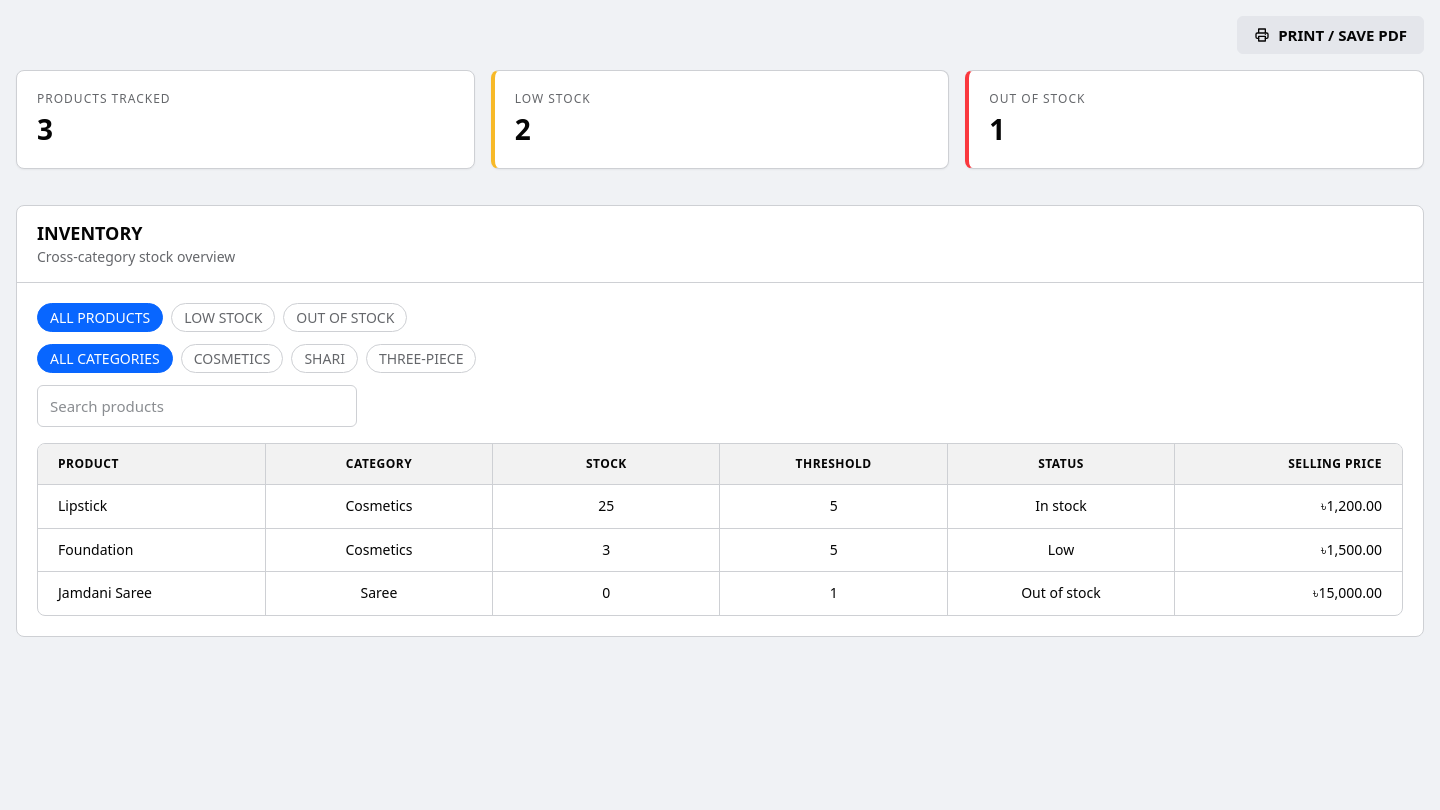
Scenario: StockPage › filters to low-stock when the chip is clicked
Expected: the text "Lipstick" is shown, [58,496,107,515]
Click the button "Low stock" at (223, 317), box [171,303,275,332]
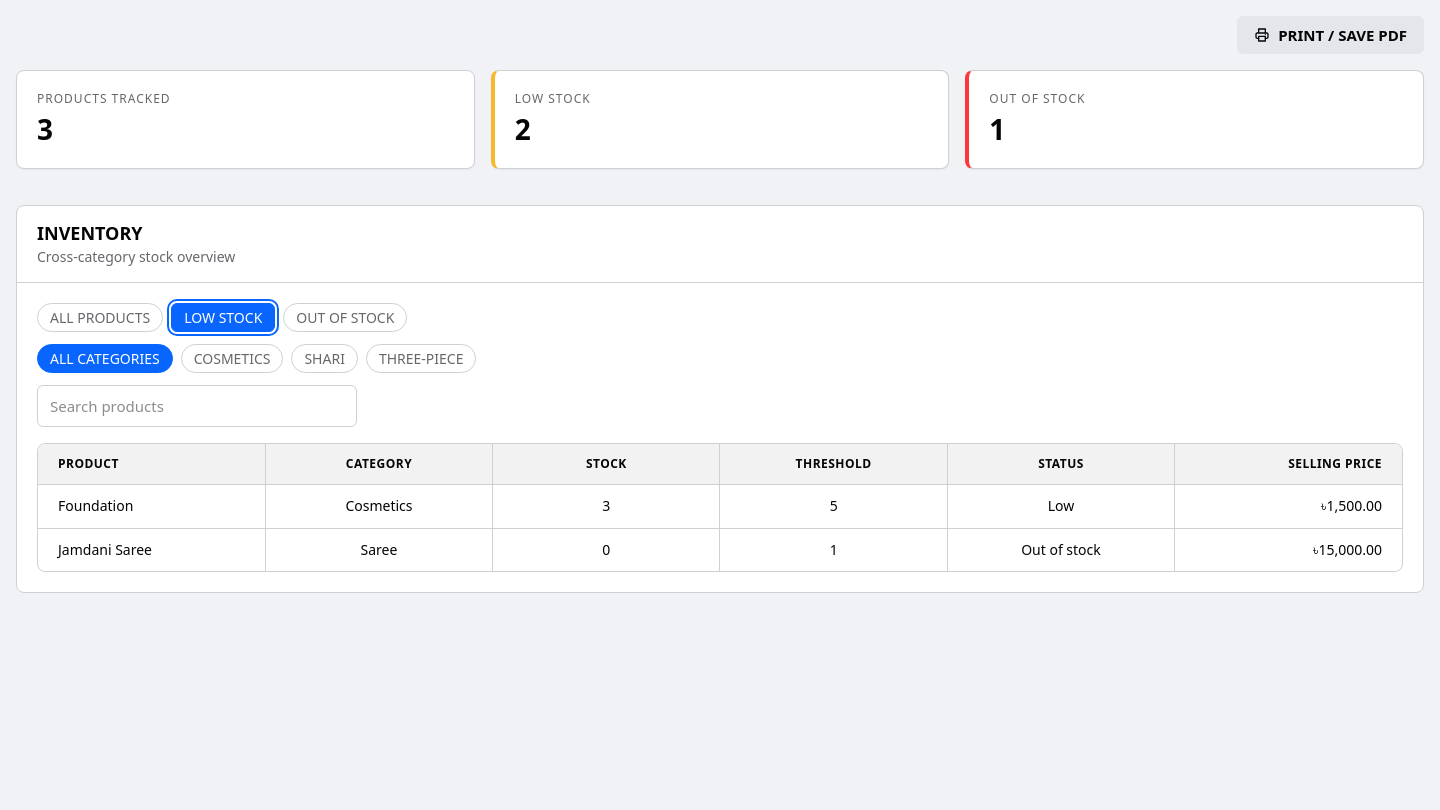
Expected: the text "Foundation" is shown, [58,496,133,515]
Expected: the text "Lipstick" is gone
